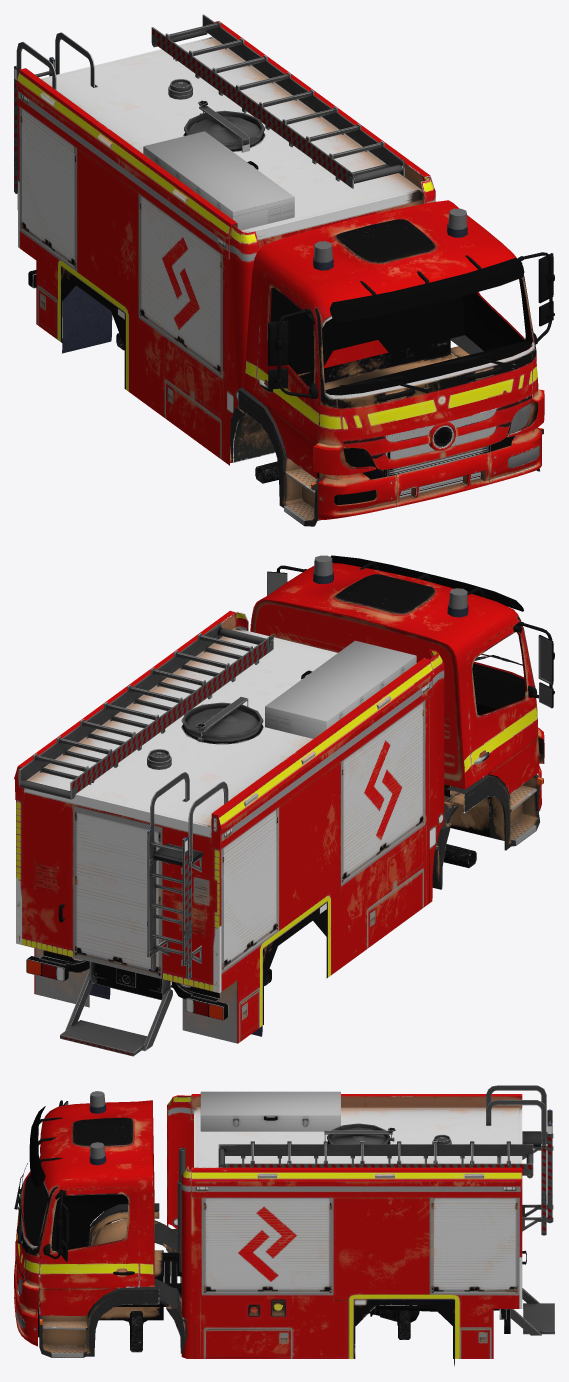
The model's file is BodyFire Truck.fbx.
3 renders of one model, top to bottom at view 1: azimuth 30°, elevation 25°; view 2: azimuth 150°, elevation 25°; view 3: azimuth 270°, elevation 25°, orthographic. The views are drawn at different scales.
Visible parts, largest first — view 1: BodyFire Truck, DetailFire Truck; view 2: BodyFire Truck, DetailFire Truck; view 3: BodyFire Truck, DetailFire Truck.
Part boxes in pixels (box(x1,y1,x2,y2)): BodyFire Truck: box(16, 21, 544, 526); DetailFire Truck: box(14, 14, 554, 497); BodyFire Truck: box(14, 563, 544, 1043); DetailFire Truck: box(19, 555, 554, 1056); BodyFire Truck: box(14, 1094, 522, 1358); DetailFire Truck: box(14, 1085, 554, 1366).
Bounding box in the file's own units: 281 × 254 × 592.
